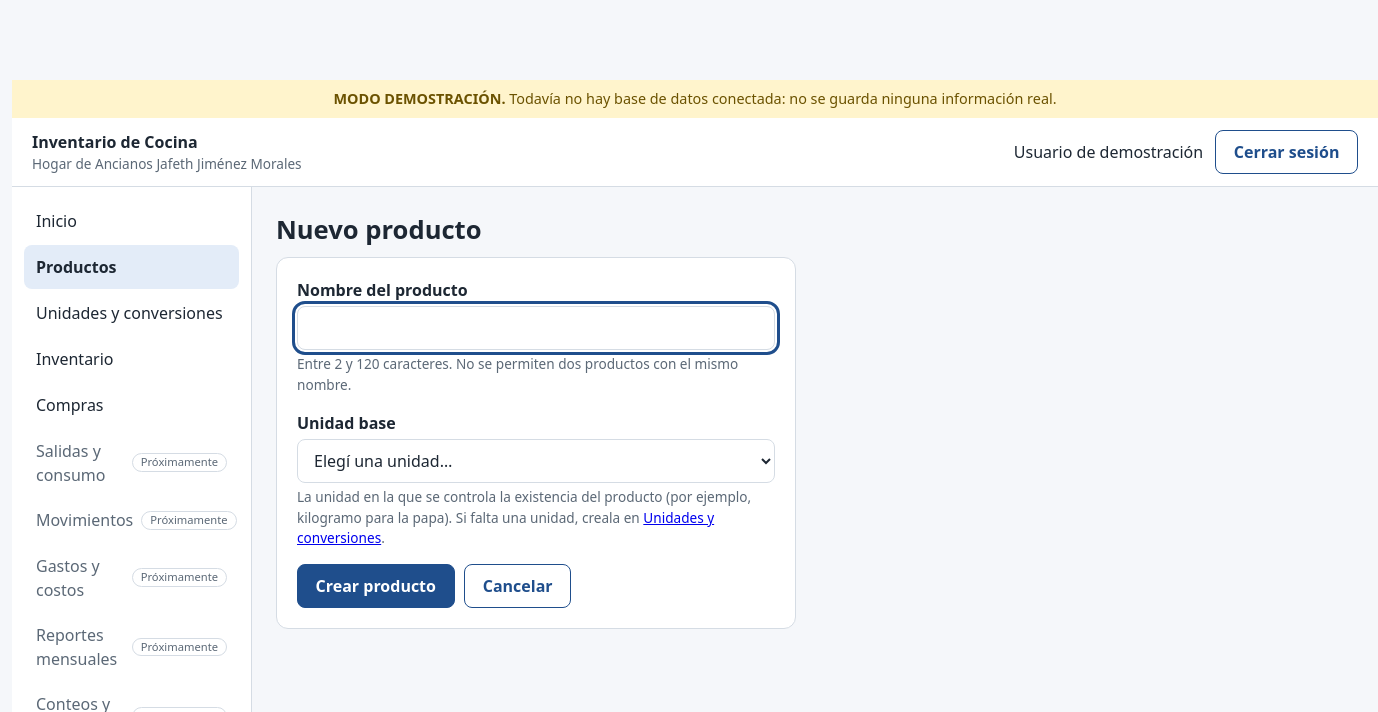
Test: crear producto › rechaza «Papa» y luego « papa » con un mensaje claro, sin crear el segundo
This screenshot has width=1378, height=712.
(page scrolled)
Type " papa " into the field labelled "Nombre del producto" at (536, 328), box [297,306,775,350]
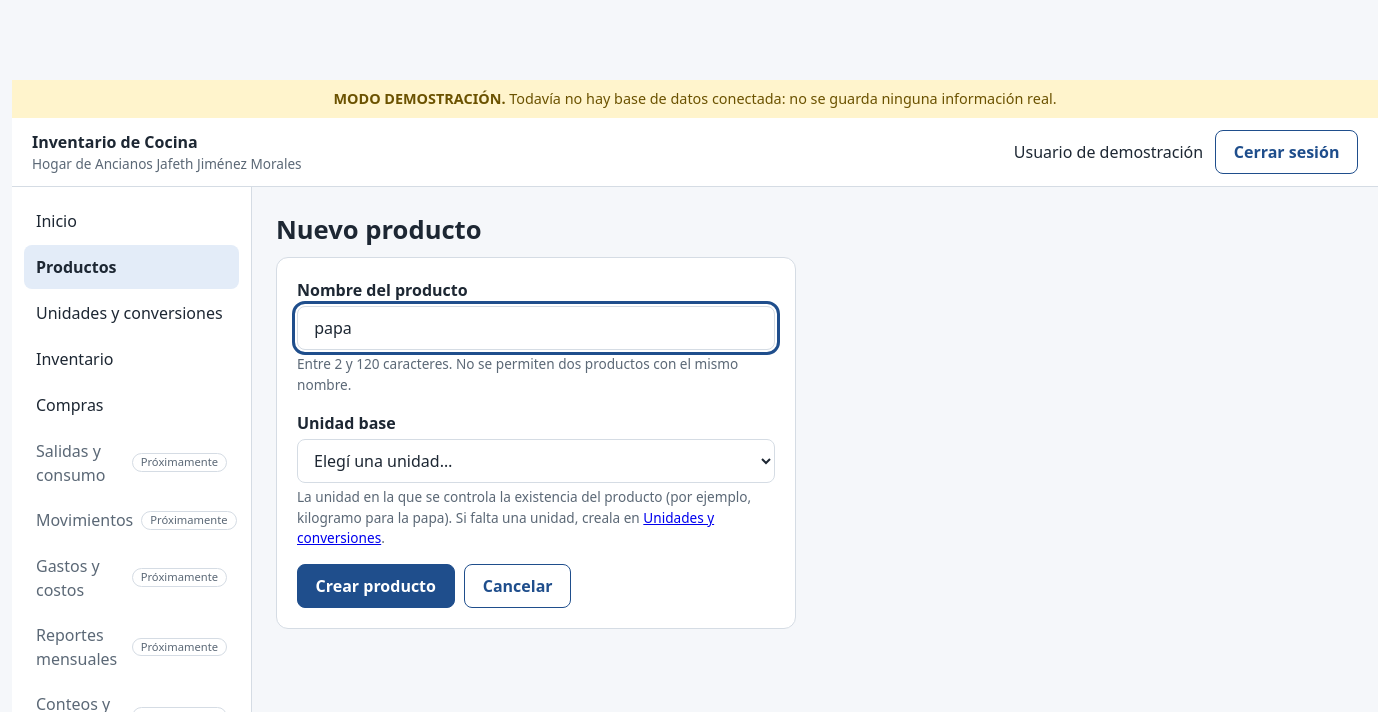
Select "Kilogramo (kg)" in the dropdown labelled "Unidad base" at (536, 461), box [297,439,775,483]
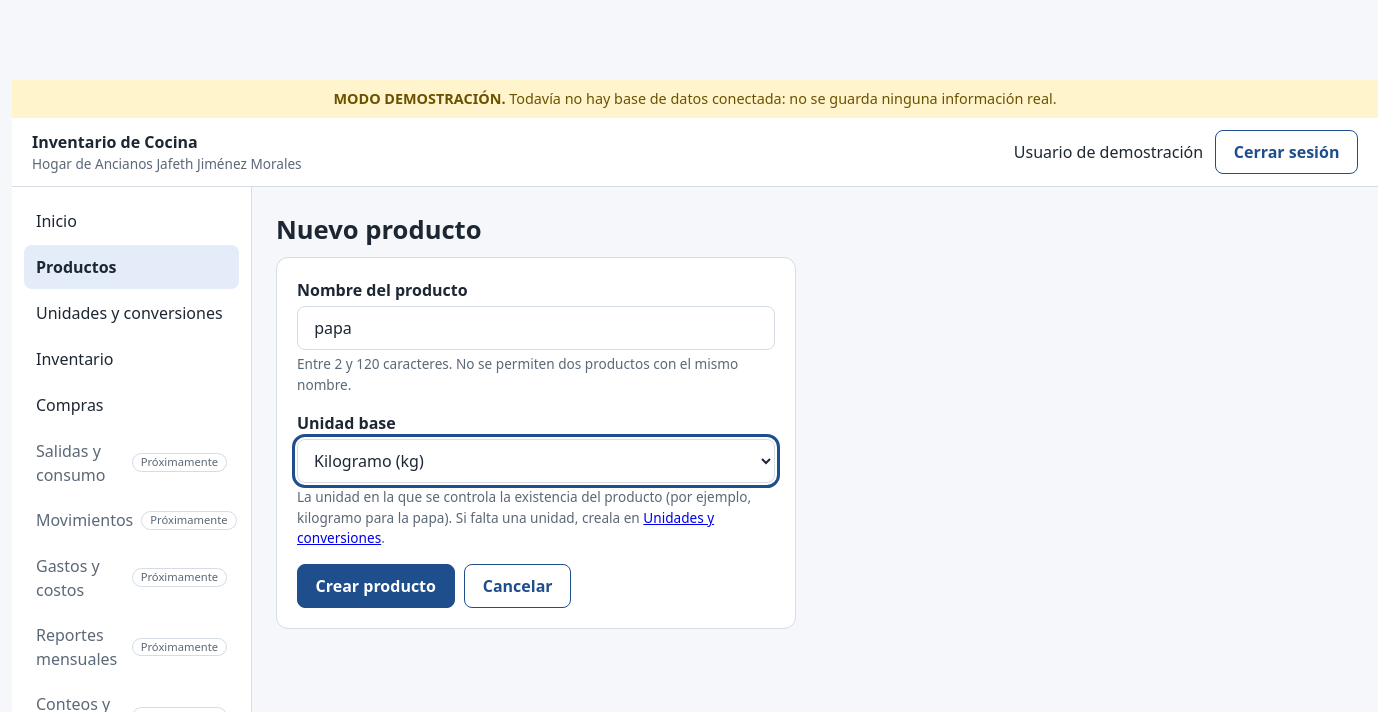
Click the button "Crear producto" at (376, 586), box [297,564,455,608]
(page scrolled)
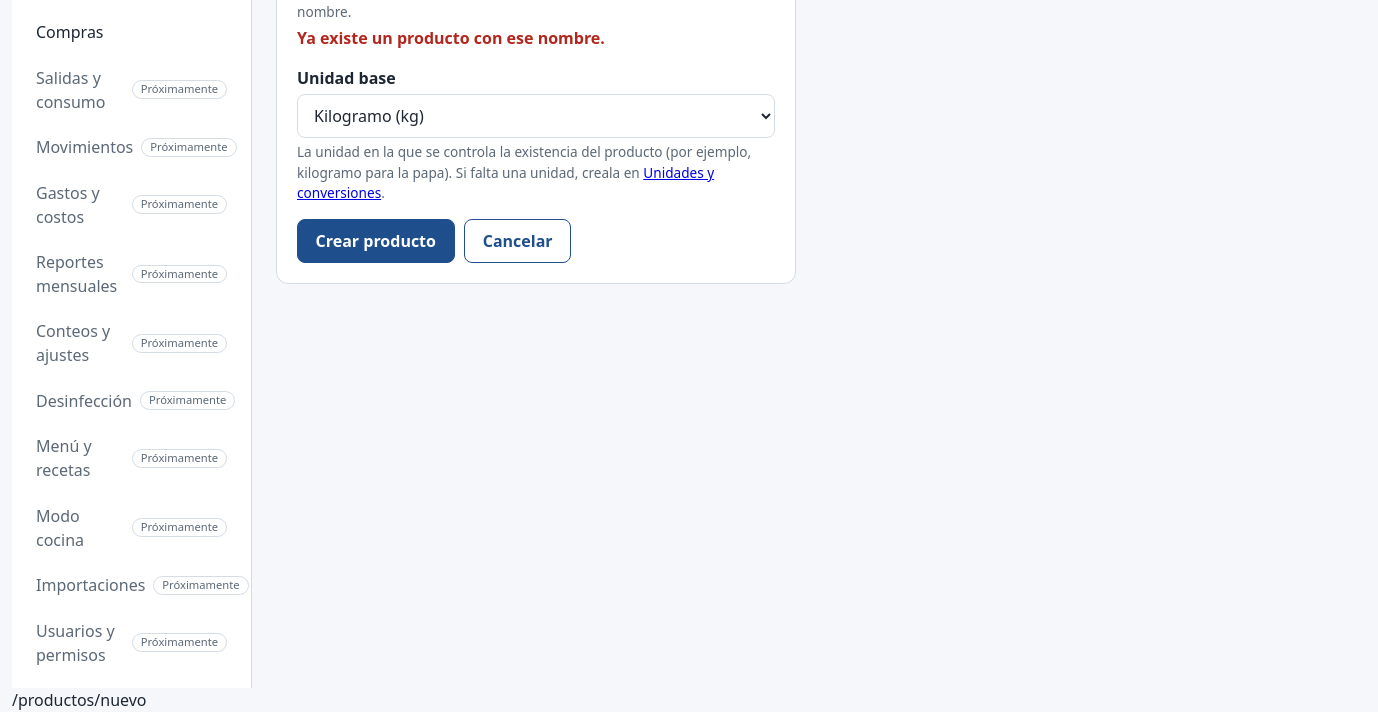
Check: the text with test id "ubicacion" reads "/productos/nuevo", box [12,689,146,711]
Check: the message reads "Ya existe un producto con ese nombre.", box [297,27,605,49]
